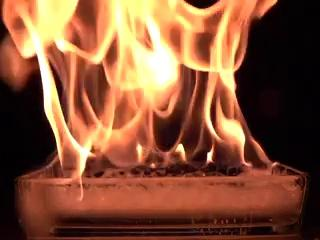Fire: (18, 1, 288, 181)
